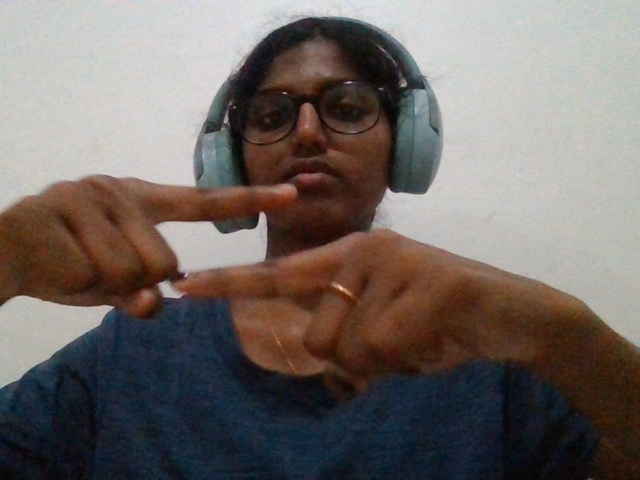Sign: (4, 129, 602, 452)
